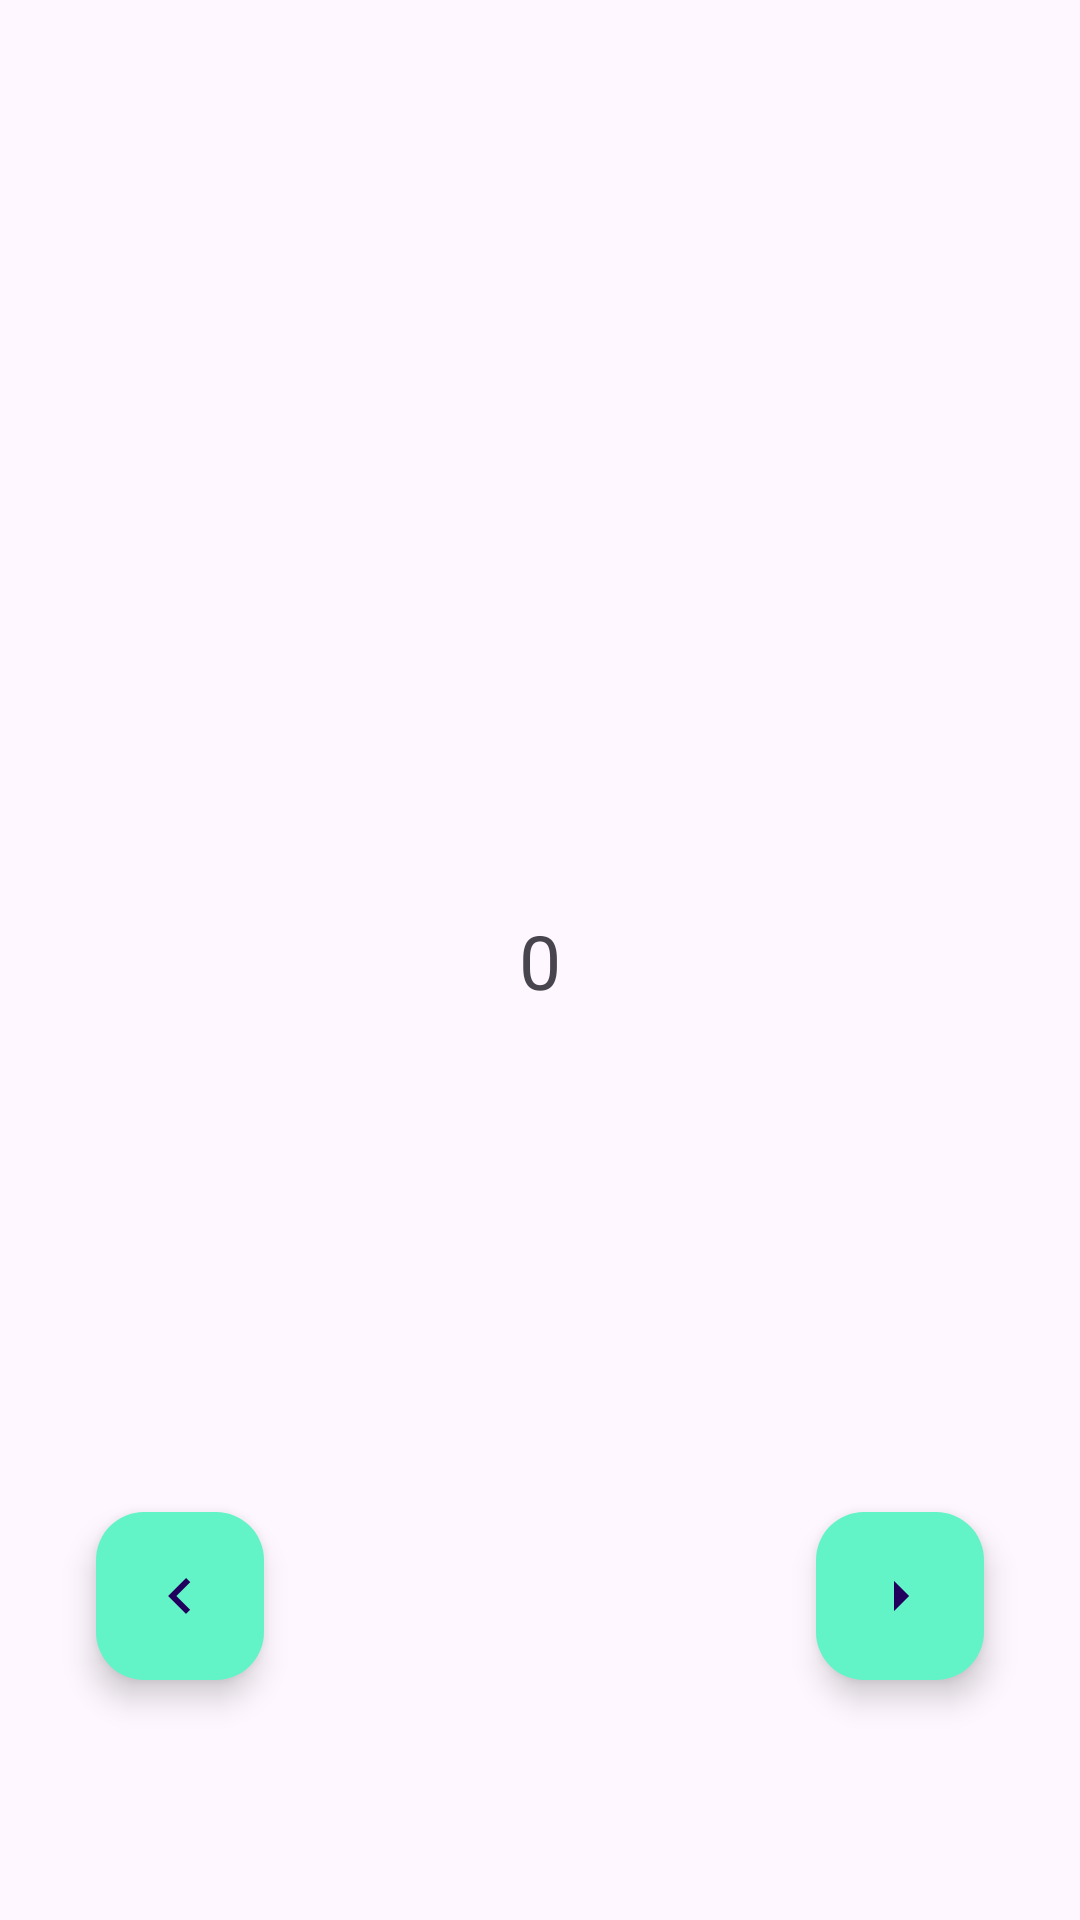

Where icons sit on this 1080 x 1920 app screen, as region(x1, y1, x2, y2):
arrow right: region(816, 1512, 984, 1680)
keyboard arrow left: region(96, 1512, 264, 1680)
